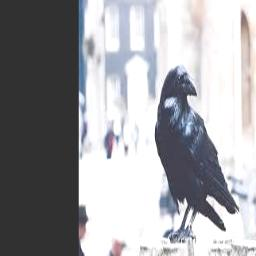Crow: (154, 63, 239, 243)
